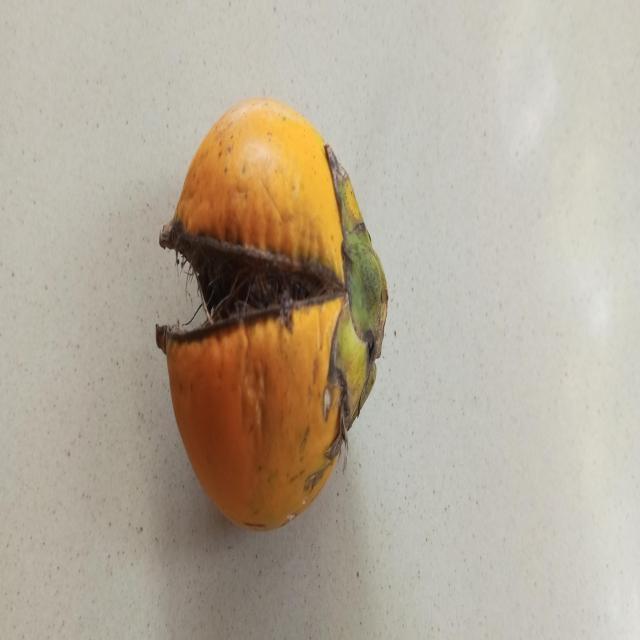damaged: (155, 99, 390, 534)
